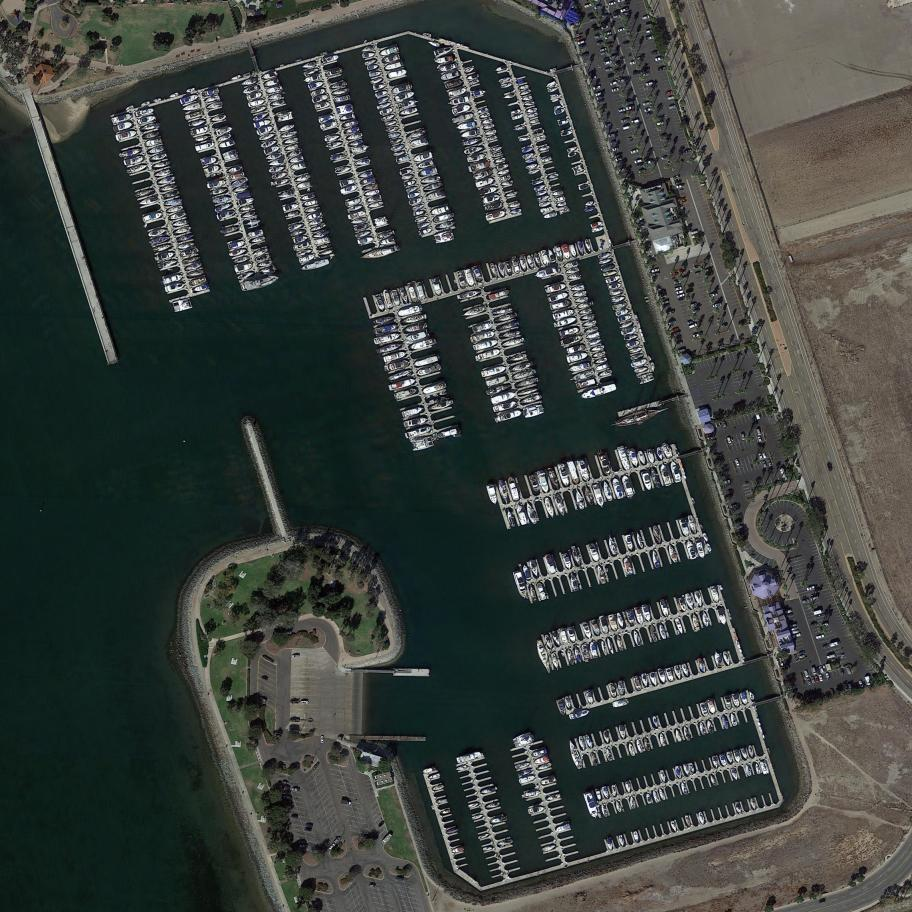large-vehicle: (381, 833, 393, 846), (812, 608, 825, 616), (829, 640, 841, 648), (864, 676, 872, 686), (341, 800, 351, 805)
ship: (615, 404, 668, 430), (239, 273, 281, 293), (534, 639, 554, 677), (361, 243, 398, 263), (580, 382, 618, 401), (566, 739, 584, 770), (583, 791, 601, 821), (513, 570, 530, 600), (301, 258, 331, 273), (388, 376, 417, 391), (596, 450, 612, 477), (616, 445, 632, 472), (490, 390, 517, 406), (410, 435, 435, 452), (480, 364, 508, 379), (512, 731, 535, 749), (404, 425, 433, 439), (373, 332, 402, 346), (455, 750, 484, 764), (506, 475, 521, 502), (496, 479, 511, 506), (552, 493, 568, 518), (409, 337, 437, 351), (557, 462, 572, 488), (566, 460, 581, 486), (576, 458, 591, 484), (592, 483, 607, 509), (387, 368, 413, 383), (470, 330, 496, 345), (535, 470, 551, 494), (472, 338, 499, 352), (486, 383, 513, 397), (496, 409, 523, 423), (373, 322, 400, 336), (397, 304, 424, 318), (523, 403, 546, 419), (492, 400, 518, 414), (422, 381, 448, 395), (432, 230, 456, 245), (547, 466, 561, 491), (524, 501, 538, 526), (428, 399, 453, 413), (393, 387, 418, 401), (436, 427, 462, 440), (378, 341, 404, 354), (477, 347, 501, 361), (404, 321, 428, 335), (571, 369, 596, 382), (417, 364, 442, 377), (385, 359, 410, 372), (413, 355, 438, 368), (383, 350, 408, 363), (514, 376, 539, 389), (452, 111, 475, 125), (542, 496, 556, 519), (611, 477, 625, 500), (485, 483, 499, 506), (485, 374, 508, 388), (621, 474, 634, 498), (669, 459, 682, 483), (565, 351, 589, 364), (561, 334, 585, 347), (403, 416, 429, 428), (512, 368, 536, 381), (401, 313, 425, 326), (401, 405, 425, 418), (543, 553, 557, 575), (547, 291, 569, 305), (372, 314, 397, 326), (468, 160, 491, 173), (601, 480, 614, 503), (573, 488, 586, 511), (659, 463, 672, 486), (515, 503, 528, 526), (432, 211, 455, 224), (463, 305, 486, 318), (440, 69, 461, 83), (587, 542, 601, 563), (179, 92, 200, 106), (406, 283, 420, 304), (568, 361, 592, 373), (554, 316, 578, 328), (534, 267, 558, 279), (125, 163, 149, 175), (485, 209, 507, 222), (640, 470, 653, 492), (694, 539, 707, 561), (545, 282, 567, 295), (396, 98, 418, 111), (472, 321, 494, 334), (520, 393, 542, 406), (569, 708, 591, 721), (552, 308, 575, 320), (549, 299, 572, 311), (112, 121, 135, 133), (115, 129, 138, 141), (509, 361, 532, 373), (488, 289, 511, 301), (466, 152, 487, 165), (649, 468, 662, 489), (651, 524, 664, 545), (570, 546, 583, 567), (430, 277, 443, 298), (502, 336, 523, 349), (438, 62, 460, 74), (558, 326, 580, 338), (120, 147, 142, 159), (162, 273, 184, 285), (412, 151, 434, 163), (405, 331, 427, 343), (458, 289, 480, 301), (474, 168, 494, 181), (685, 540, 698, 560), (627, 448, 640, 468), (430, 204, 450, 217), (463, 267, 476, 287), (640, 603, 653, 623), (638, 371, 655, 386), (433, 45, 454, 57), (479, 185, 500, 197), (475, 177, 496, 189), (447, 86, 468, 98), (660, 442, 674, 460), (679, 517, 691, 538), (595, 564, 607, 585), (425, 189, 446, 201), (422, 181, 443, 193), (157, 258, 178, 270), (138, 195, 159, 207), (391, 83, 412, 95), (387, 68, 408, 80), (384, 60, 405, 72), (350, 143, 371, 155), (336, 102, 354, 116), (575, 378, 596, 390), (382, 288, 394, 309), (583, 485, 594, 507), (112, 113, 134, 124), (123, 155, 145, 166), (498, 321, 520, 332), (464, 144, 484, 156), (452, 104, 472, 116), (528, 474, 540, 494), (622, 556, 634, 576), (566, 343, 586, 355), (190, 125, 210, 137), (181, 101, 201, 113), (140, 121, 160, 133), (234, 262, 254, 274), (148, 227, 168, 239), (144, 211, 164, 223), (395, 91, 415, 103), (380, 45, 400, 57), (456, 270, 468, 290), (502, 328, 522, 340), (415, 282, 427, 302), (222, 148, 239, 162), (460, 128, 481, 139), (206, 179, 227, 190), (194, 141, 215, 152), (155, 251, 176, 262), (149, 235, 170, 246), (420, 174, 441, 185), (496, 312, 517, 323), (482, 193, 501, 205), (650, 549, 662, 568), (607, 537, 619, 556), (528, 559, 540, 578), (227, 239, 246, 251), (165, 203, 184, 215), (153, 242, 172, 254), (382, 53, 401, 65), (260, 138, 279, 150), (340, 184, 359, 196), (549, 652, 561, 671), (633, 606, 645, 625), (659, 600, 671, 619), (716, 608, 728, 627), (684, 592, 696, 611), (374, 293, 386, 312), (581, 621, 593, 640), (276, 110, 293, 123), (449, 95, 469, 106), (434, 54, 454, 65), (536, 581, 547, 601), (184, 110, 204, 121), (216, 209, 236, 220), (212, 194, 232, 205), (137, 114, 157, 125), (152, 159, 172, 170), (157, 175, 177, 186), (180, 247, 200, 258), (188, 276, 208, 287), (135, 188, 155, 199), (409, 137, 429, 148), (303, 73, 323, 84), (517, 386, 537, 397), (508, 353, 528, 364), (599, 615, 610, 635), (287, 221, 305, 233), (263, 144, 281, 156), (472, 265, 484, 283), (696, 657, 708, 675), (555, 698, 567, 716), (590, 619, 602, 637), (165, 282, 186, 292), (437, 220, 456, 231), (485, 202, 504, 213), (457, 120, 476, 131), (444, 79, 463, 90), (687, 515, 698, 534), (569, 573, 580, 592), (214, 202, 233, 213), (219, 225, 238, 236), (237, 270, 256, 281), (168, 210, 187, 221), (173, 225, 192, 236), (253, 118, 272, 129), (256, 125, 275, 136), (265, 85, 284, 96), (320, 120, 339, 131), (667, 544, 678, 563), (690, 613, 701, 632), (648, 624, 659, 643), (580, 643, 591, 662), (588, 641, 599, 660), (706, 698, 718, 715), (493, 306, 513, 316), (505, 510, 516, 528), (510, 256, 521, 274), (203, 164, 221, 175), (145, 137, 163, 148), (154, 167, 172, 178), (216, 126, 234, 137), (218, 139, 236, 150), (256, 258, 274, 269), (202, 86, 220, 97), (270, 170, 288, 181), (273, 176, 291, 187), (295, 247, 313, 258), (298, 253, 316, 264), (268, 164, 286, 175), (408, 129, 426, 140), (400, 106, 418, 117), (252, 111, 270, 122), (333, 94, 351, 105), (280, 129, 298, 140), (309, 87, 327, 98), (312, 93, 330, 104), (339, 177, 357, 188), (700, 611, 711, 629), (565, 648, 576, 666), (559, 628, 570, 646), (551, 630, 562, 648), (608, 614, 619, 632), (614, 634, 625, 652), (625, 609, 636, 627), (657, 622, 668, 640), (399, 287, 410, 305), (390, 289, 401, 307), (572, 645, 583, 663), (463, 137, 482, 147), (136, 107, 155, 117), (228, 248, 247, 258), (247, 98, 266, 108), (321, 54, 340, 64), (489, 815, 508, 825), (527, 805, 546, 815), (540, 249, 551, 266), (561, 243, 572, 260), (562, 553, 573, 570), (496, 261, 507, 278), (147, 145, 164, 156), (242, 84, 259, 95), (312, 229, 329, 240), (307, 80, 324, 91), (324, 133, 341, 144), (673, 618, 684, 635), (566, 626, 577, 643), (648, 671, 659, 688), (657, 668, 668, 685), (664, 666, 675, 683), (713, 651, 724, 668), (693, 591, 704, 608), (607, 682, 618, 699), (519, 774, 536, 785), (635, 532, 645, 550), (624, 534, 634, 552), (630, 358, 648, 368), (188, 118, 206, 128), (232, 184, 250, 194), (246, 229, 264, 239), (177, 241, 195, 251), (182, 255, 200, 265), (184, 262, 202, 272), (186, 269, 204, 279), (289, 228, 307, 238), (309, 223, 327, 233), (420, 167, 438, 177), (249, 105, 267, 115), (376, 230, 394, 240), (373, 216, 388, 228), (359, 176, 377, 186), (353, 222, 371, 232), (351, 216, 369, 226), (277, 123, 295, 133), (330, 152, 348, 162), (632, 629, 642, 647), (710, 586, 720, 604), (605, 637, 615, 655), (408, 196, 424, 207), (330, 80, 346, 91), (544, 634, 555, 650), (677, 597, 688, 613), (554, 245, 564, 262), (646, 448, 656, 465), (489, 262, 499, 279), (612, 301, 629, 311), (200, 156, 217, 166), (163, 190, 180, 200), (150, 152, 167, 162), (233, 255, 250, 265), (160, 183, 177, 193), (177, 233, 194, 243), (240, 77, 257, 87), (278, 189, 295, 199), (313, 236, 330, 246), (307, 217, 324, 227), (305, 211, 322, 221), (266, 151, 283, 161), (417, 159, 434, 169), (258, 132, 275, 142), (356, 229, 373, 239), (342, 119, 359, 129), (325, 68, 342, 78), (314, 100, 331, 110), (318, 114, 335, 124), (327, 140, 344, 150), (335, 165, 352, 175), (611, 699, 628, 709), (615, 612, 625, 629), (632, 675, 642, 692), (585, 689, 595, 706), (577, 735, 587, 752), (616, 680, 626, 697), (517, 767, 534, 777), (525, 789, 542, 799), (540, 776, 557, 786), (418, 226, 433, 237), (759, 760, 770, 775), (739, 746, 750, 761), (211, 187, 229, 196), (210, 114, 228, 123), (164, 198, 182, 207), (282, 203, 300, 212), (345, 197, 363, 206), (480, 786, 498, 795), (576, 240, 586, 256), (377, 101, 393, 111), (637, 450, 647, 466), (528, 586, 538, 602), (625, 339, 641, 349), (621, 326, 637, 336), (614, 308, 630, 318), (144, 130, 160, 140), (252, 247, 268, 257), (259, 265, 275, 275), (172, 218, 188, 228), (290, 161, 306, 171), (246, 91, 262, 101), (287, 149, 303, 159), (379, 237, 395, 247), (355, 157, 371, 167), (340, 112, 356, 122), (267, 92, 283, 102), (264, 78, 280, 88), (301, 60, 317, 70), (699, 702, 709, 718), (673, 665, 683, 681), (722, 651, 732, 667), (584, 734, 594, 750), (731, 693, 741, 709), (723, 695, 733, 711), (706, 719, 716, 735), (515, 760, 531, 770), (536, 761, 552, 771), (533, 755, 549, 765), (531, 748, 547, 758), (497, 838, 513, 848), (519, 255, 528, 272), (204, 95, 221, 104), (230, 178, 247, 187), (238, 197, 255, 206), (192, 284, 209, 293), (268, 158, 285, 167), (367, 201, 384, 210), (365, 195, 382, 204), (364, 189, 381, 198), (346, 132, 363, 141), (331, 88, 348, 97), (269, 99, 286, 108), (600, 640, 609, 657), (391, 143, 406, 153), (381, 113, 396, 123), (407, 190, 422, 200), (472, 88, 487, 98), (634, 365, 649, 375), (588, 337, 603, 347), (598, 369, 613, 379), (503, 260, 513, 275), (618, 320, 633, 330), (617, 313, 632, 323), (605, 275, 620, 285), (564, 260, 579, 270), (572, 289, 587, 299), (195, 133, 210, 143), (296, 180, 311, 190), (640, 673, 650, 688), (642, 737, 652, 752), (634, 738, 644, 753), (618, 725, 628, 740), (601, 730, 611, 745), (563, 695, 573, 710), (658, 732, 668, 747), (698, 721, 708, 736), (720, 715, 730, 730), (732, 749, 742, 764), (674, 765, 684, 780), (697, 811, 707, 826), (601, 785, 611, 800), (584, 238, 593, 254), (533, 252, 542, 268), (594, 362, 610, 371), (602, 269, 618, 278), (597, 251, 613, 260), (207, 101, 223, 110), (229, 171, 245, 180), (262, 71, 278, 80), (293, 235, 309, 244), (317, 243, 333, 252), (295, 174, 311, 183), (289, 155, 305, 164), (363, 182, 379, 191), (358, 170, 374, 179), (348, 139, 364, 148), (344, 126, 360, 135), (304, 67, 320, 76), (739, 691, 748, 707), (541, 844, 557, 853), (555, 823, 571, 832), (485, 801, 501, 810), (572, 163, 585, 174), (521, 151, 535, 161), (533, 183, 547, 193), (417, 220, 431, 230), (578, 306, 592, 316), (565, 266, 579, 276), (681, 664, 691, 678), (589, 752, 599, 766), (730, 768, 740, 782), (658, 769, 668, 783), (547, 249, 556, 264), (569, 243, 578, 258), (543, 211, 558, 220), (526, 254, 535, 269), (385, 125, 400, 134), (379, 107, 394, 116), (522, 565, 531, 580), (585, 331, 600, 340), (630, 353, 645, 362), (584, 325, 599, 334), (582, 319, 597, 328), (624, 333, 639, 342), (611, 295, 626, 304), (609, 288, 624, 297), (600, 263, 615, 272), (567, 272, 582, 281), (574, 295, 589, 304), (228, 165, 243, 174), (251, 235, 266, 244), (284, 210, 299, 219), (300, 193, 315, 202), (361, 51, 376, 60), (284, 143, 299, 152), (427, 39, 442, 48), (627, 742, 636, 757), (682, 726, 691, 741), (747, 744, 756, 759), (546, 793, 561, 802), (680, 781, 689, 796), (628, 795, 637, 810), (450, 846, 465, 855), (734, 802, 744, 815), (718, 754, 728, 767), (669, 820, 679, 833), (576, 301, 592, 309), (254, 254, 270, 262), (317, 249, 333, 257), (305, 206, 321, 214), (358, 236, 374, 244), (537, 144, 551, 153), (527, 168, 541, 177), (490, 145, 504, 154), (482, 122, 496, 131), (591, 225, 605, 234), (538, 200, 552, 209), (384, 119, 398, 128), (399, 168, 413, 177), (412, 203, 426, 212), (509, 207, 523, 216), (591, 344, 605, 353), (593, 350, 607, 359), (304, 198, 318, 207), (284, 137, 298, 146), (349, 204, 363, 213), (604, 748, 613, 762), (749, 797, 758, 811), (729, 712, 738, 726), (753, 762, 762, 776), (744, 763, 753, 777), (711, 755, 720, 769), (682, 763, 691, 777), (657, 787, 666, 801), (594, 788, 603, 802), (606, 837, 615, 851), (570, 284, 585, 292), (217, 134, 232, 142), (525, 162, 538, 171), (521, 146, 534, 155), (498, 75, 511, 84), (484, 128, 497, 137), (519, 88, 532, 97), (590, 220, 603, 229), (537, 194, 550, 203), (560, 129, 573, 138), (375, 89, 388, 98), (377, 95, 390, 104), (388, 131, 401, 140), (406, 185, 419, 194), (367, 63, 380, 72), (655, 447, 664, 460), (499, 174, 512, 183), (725, 751, 734, 764), (432, 783, 445, 792), (644, 792, 653, 805), (684, 815, 693, 828), (617, 834, 626, 847), (600, 804, 609, 817), (614, 799, 623, 812), (624, 781, 633, 794), (511, 113, 525, 121), (503, 92, 517, 100), (496, 168, 510, 176), (496, 162, 510, 170), (500, 179, 514, 187), (370, 77, 384, 85), (504, 190, 518, 198), (401, 173, 415, 181), (415, 215, 429, 223), (368, 70, 382, 78), (363, 58, 377, 66), (507, 201, 521, 209), (629, 346, 643, 354), (608, 282, 622, 290), (240, 204, 254, 212), (242, 211, 256, 219), (583, 205, 597, 213), (396, 155, 410, 163), (674, 729, 682, 743), (445, 827, 459, 835), (494, 156, 506, 165), (486, 134, 498, 143), (553, 107, 565, 116), (541, 155, 553, 164), (526, 111, 539, 119), (518, 135, 531, 143), (466, 73, 479, 81), (491, 151, 504, 159), (525, 106, 538, 114), (373, 83, 386, 91), (390, 137, 403, 145), (393, 150, 406, 158), (595, 357, 608, 365), (581, 313, 594, 321), (494, 65, 507, 73), (652, 716, 660, 729), (471, 813, 484, 821), (652, 790, 660, 803), (610, 784, 618, 797), (510, 108, 522, 116), (468, 78, 480, 86), (481, 118, 493, 126), (579, 183, 591, 191), (548, 172, 560, 180), (404, 179, 416, 187), (559, 207, 571, 215), (710, 775, 718, 787), (468, 801, 480, 809), (455, 764, 467, 772), (688, 762, 696, 774), (632, 831, 640, 843), (478, 832, 490, 840), (500, 82, 513, 89), (476, 107, 489, 114), (535, 190, 548, 197), (599, 258, 612, 265), (514, 124, 527, 131), (548, 86, 559, 94), (546, 81, 557, 89), (555, 195, 566, 203), (521, 95, 533, 102), (552, 190, 564, 197), (556, 201, 568, 208), (532, 179, 544, 186), (566, 146, 578, 153), (465, 66, 477, 73), (124, 105, 136, 112), (168, 92, 180, 99), (230, 75, 242, 82), (436, 798, 448, 805), (429, 773, 441, 780), (748, 691, 756, 701), (529, 118, 540, 125), (479, 112, 490, 119), (524, 100, 535, 107), (558, 119, 569, 126), (584, 200, 595, 207), (423, 767, 434, 774), (533, 129, 544, 136), (535, 134, 545, 141), (702, 532, 709, 542), (440, 809, 450, 816), (519, 84, 530, 90), (568, 152, 577, 159), (552, 105, 562, 111), (422, 32, 432, 38), (483, 845, 493, 851), (186, 88, 196, 94), (706, 544, 712, 553), (141, 101, 150, 107), (301, 718, 314, 722), (550, 94, 560, 99), (651, 362, 656, 372), (243, 72, 251, 78), (153, 98, 162, 103), (551, 98, 559, 103), (691, 497, 696, 505), (290, 718, 300, 722), (719, 585, 724, 591), (295, 58, 301, 63), (290, 701, 299, 704), (300, 701, 309, 704), (700, 524, 704, 530), (320, 51, 326, 55), (363, 40, 367, 44), (432, 806, 435, 810), (280, 64, 284, 67)
small-vehicle: (676, 347, 688, 354), (333, 836, 342, 845), (672, 278, 683, 285), (657, 288, 668, 295), (327, 843, 336, 851), (610, 53, 620, 60), (665, 89, 675, 96), (809, 621, 819, 628), (815, 633, 825, 640), (826, 653, 836, 660), (675, 340, 685, 347), (661, 299, 671, 306), (650, 267, 660, 274), (713, 302, 723, 309), (688, 323, 698, 330), (806, 585, 817, 591), (708, 292, 719, 298), (692, 332, 703, 338), (599, 46, 608, 53), (793, 632, 802, 639), (827, 463, 834, 472), (784, 607, 793, 614), (755, 412, 762, 421), (722, 421, 729, 430), (686, 287, 695, 294), (622, 125, 632, 131), (630, 119, 640, 125), (626, 104, 636, 110), (658, 66, 668, 72), (655, 56, 665, 62), (846, 666, 852, 676), (820, 622, 830, 628), (785, 612, 795, 618), (665, 310, 675, 316), (651, 271, 661, 277), (660, 155, 670, 161), (738, 320, 748, 326), (261, 675, 269, 682), (811, 667, 818, 675), (825, 673, 832, 681), (858, 680, 865, 688), (734, 459, 741, 467), (705, 272, 713, 279), (312, 763, 319, 771), (378, 820, 385, 828), (614, 67, 623, 73), (604, 122, 613, 128), (642, 68, 651, 74), (645, 35, 654, 41), (642, 71, 651, 77), (582, 51, 591, 57), (605, 34, 614, 40), (645, 159, 654, 165), (819, 665, 825, 674), (810, 676, 816, 685), (829, 688, 835, 697), (818, 898, 827, 904), (735, 524, 744, 530), (821, 644, 830, 650), (660, 133, 669, 139), (801, 598, 810, 604), (791, 629, 800, 635), (671, 327, 680, 333), (668, 320, 677, 326), (663, 303, 672, 309), (691, 230, 700, 236), (656, 121, 665, 127), (674, 286, 683, 292), (676, 293, 685, 299), (635, 162, 645, 167), (810, 596, 820, 601), (815, 613, 825, 618), (789, 623, 799, 628), (285, 805, 295, 810), (604, 60, 612, 66), (612, 146, 620, 152), (608, 132, 616, 138), (596, 95, 604, 101), (588, 71, 596, 77), (633, 70, 641, 76), (614, 153, 622, 159), (645, 111, 653, 117), (619, 110, 627, 116), (667, 95, 675, 101), (652, 50, 660, 56), (646, 81, 654, 87), (799, 649, 807, 655), (804, 670, 810, 678), (844, 683, 850, 691), (762, 452, 768, 460), (668, 104, 676, 110), (684, 149, 692, 155), (681, 275, 689, 281), (757, 436, 763, 444), (758, 453, 764, 461), (756, 428, 762, 436), (696, 270, 704, 276), (690, 302, 698, 308), (259, 697, 267, 703), (611, 87, 620, 92), (618, 78, 627, 83), (607, 74, 616, 79), (613, 61, 622, 66), (604, 67, 613, 72), (630, 149, 639, 154), (621, 118, 630, 123), (643, 101, 652, 106), (604, 31, 613, 36), (617, 27, 626, 32), (613, 14, 622, 19), (594, 4, 603, 9), (584, 4, 593, 9), (634, 159, 643, 164), (638, 169, 647, 174), (730, 504, 739, 509), (672, 331, 681, 336), (659, 294, 668, 299), (692, 234, 701, 239), (721, 322, 730, 327), (676, 290, 685, 295), (281, 780, 290, 785), (283, 790, 292, 795), (603, 56, 610, 62), (837, 654, 845, 659), (636, 56, 644, 61), (625, 98, 633, 103), (610, 81, 618, 86), (610, 140, 618, 145), (595, 92, 603, 97), (589, 75, 597, 80), (642, 15, 650, 20), (645, 29, 653, 34), (619, 167, 627, 172), (615, 157, 623, 162), (643, 108, 651, 113), (618, 108, 626, 113), (596, 41, 604, 46), (284, 631, 292, 636), (621, 8, 629, 13), (601, 25, 609, 30), (819, 674, 824, 682), (798, 654, 806, 659), (807, 678, 812, 686), (814, 675, 819, 683), (848, 683, 853, 691), (722, 480, 730, 485), (791, 626, 799, 631), (762, 460, 767, 468), (676, 184, 684, 189), (645, 22, 653, 27), (741, 433, 746, 441), (693, 309, 701, 314), (678, 296, 686, 301), (320, 736, 325, 744), (291, 788, 301, 792), (291, 814, 299, 819), (304, 827, 312, 832), (395, 877, 404, 881), (282, 785, 291, 789), (299, 844, 308, 848), (630, 61, 637, 66), (608, 41, 615, 46), (617, 160, 624, 165), (628, 109, 635, 114), (609, 1, 616, 6), (595, 34, 602, 39), (578, 40, 585, 45), (840, 669, 845, 676), (767, 459, 772, 466), (614, 10, 621, 15), (602, 21, 609, 26), (656, 116, 663, 121), (727, 437, 732, 444), (693, 265, 700, 270), (687, 320, 694, 325), (593, 86, 601, 90), (594, 27, 602, 31), (602, 14, 610, 18), (588, 14, 596, 18), (589, 18, 597, 22), (591, 24, 599, 28), (283, 795, 291, 799), (305, 823, 313, 827), (577, 37, 584, 41), (291, 655, 300, 658), (700, 183, 706, 187), (623, 42, 629, 46), (299, 841, 306, 844), (369, 884, 376, 887)
